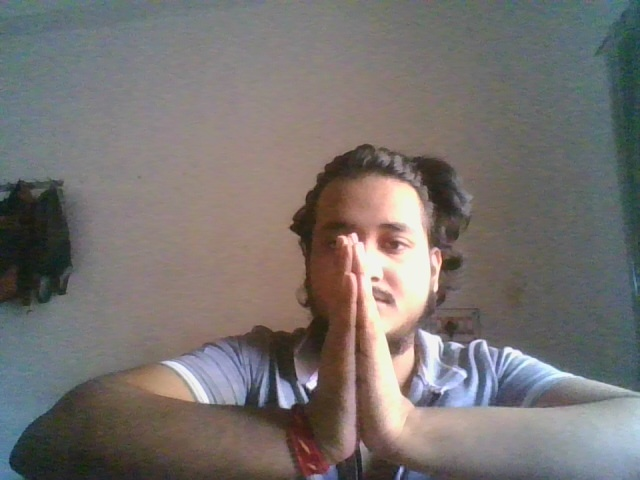ThankYou: (325, 233, 399, 465)
